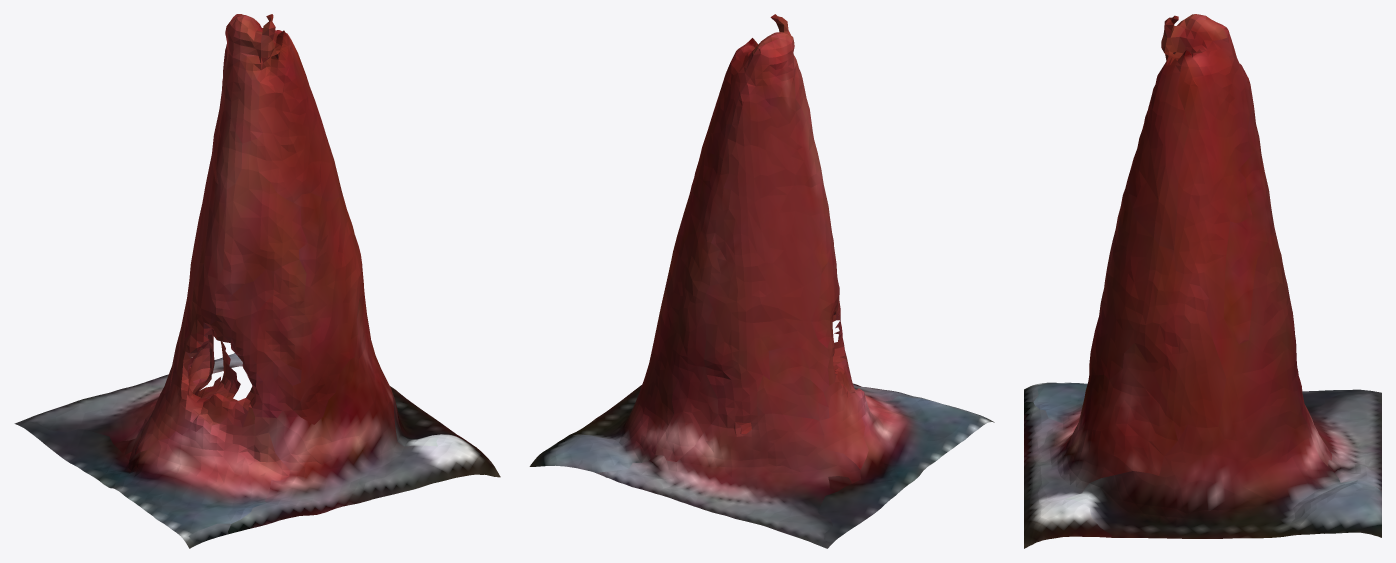
The picture shows the model from 3 angles, left to right: view 1: azimuth 30°, elevation 25°; view 2: azimuth 150°, elevation 25°; view 3: azimuth 270°, elevation 25°; orthographic projection. The views are drawn at different scales.
Visible parts, largest first — view 1: mesh; view 2: mesh; view 3: mesh.
Part boxes in pixels (box(x1,y1,x2,y2)): mesh: box(14, 14, 500, 548); mesh: box(529, 14, 994, 548); mesh: box(1024, 14, 1381, 548).
Size of the model in its own units: 0.2874 by 0.3946 by 0.2804.
1 material, 1 textured.
